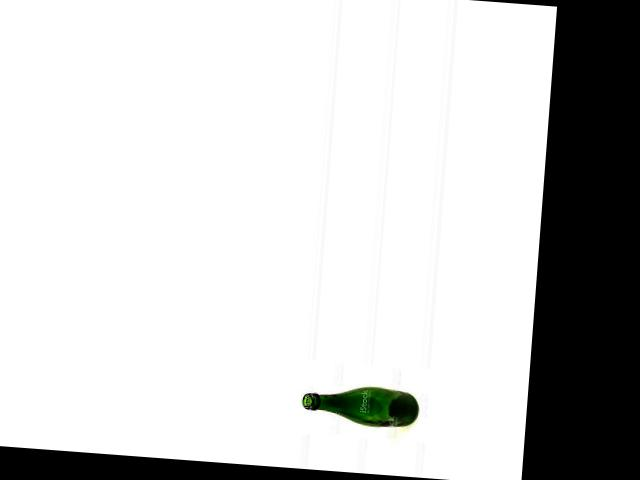beer: (300, 381, 420, 429)
